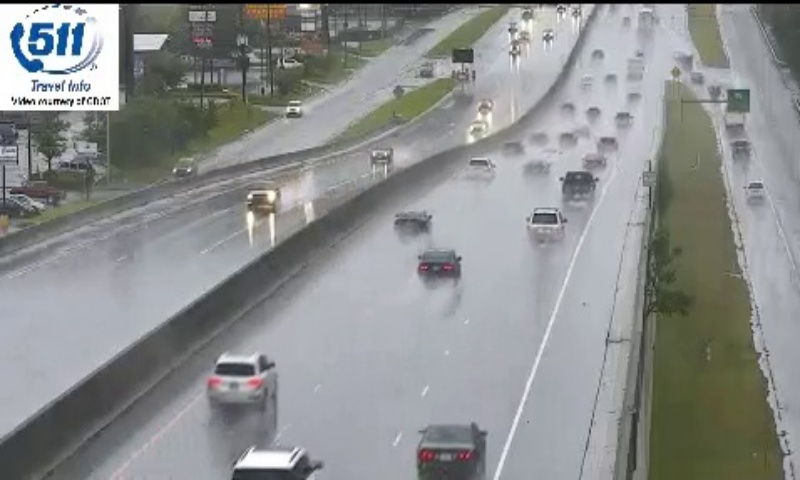car: (209, 354, 277, 409), (418, 423, 485, 475), (418, 250, 459, 284), (527, 207, 564, 243), (562, 171, 594, 201)
